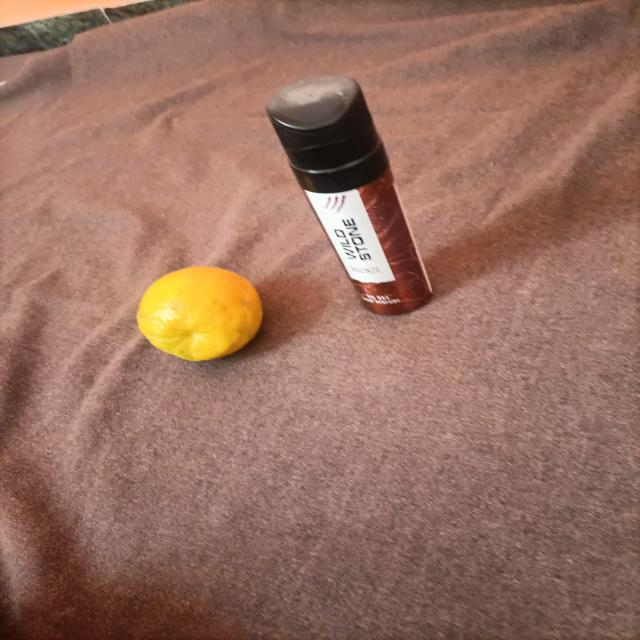orange: (117, 259, 286, 374)
spray: (226, 36, 475, 341)
